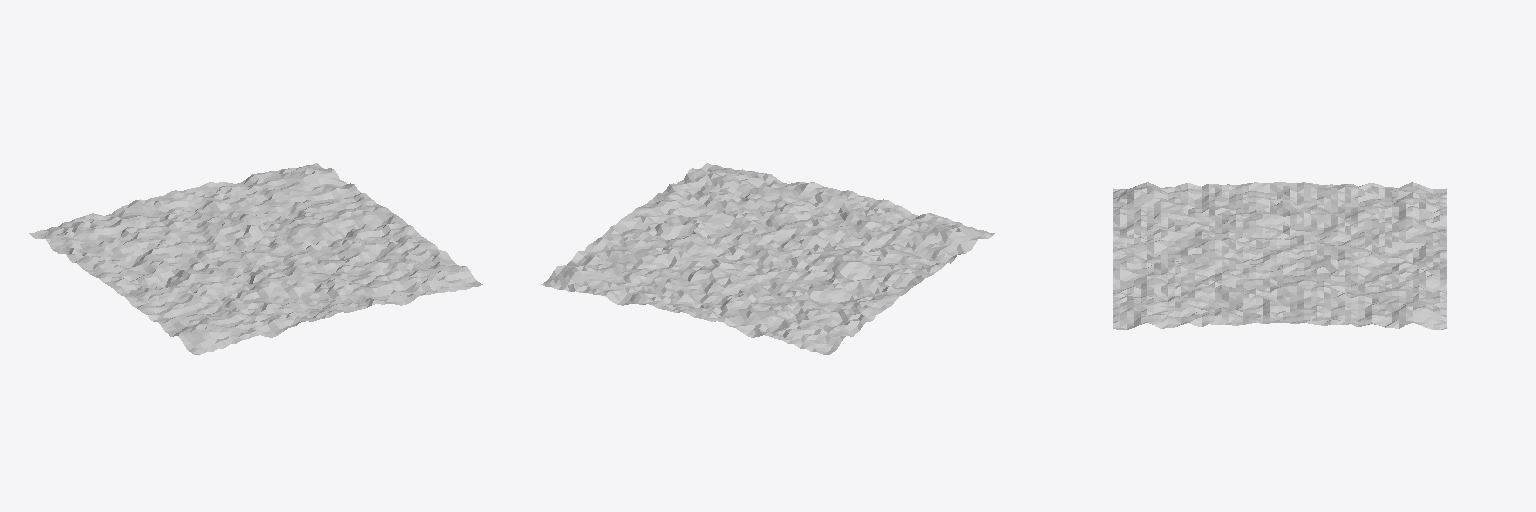
Rendered from sea.obj.
3 views of the same model, side by side, from view 1: azimuth 30°, elevation 25°; view 2: azimuth 150°, elevation 25°; view 3: azimuth 270°, elevation 25° (orthographic).
Parts seen in each view (by area): view 1: Plane; view 2: Plane; view 3: Plane.
Boxes of the visible parts, x1,y1,x2,y2 form: Plane: [29, 163, 482, 354]; Plane: [541, 163, 994, 354]; Plane: [1113, 182, 1446, 329].
Size of the model in its own units: 50 by 2.3 by 50.